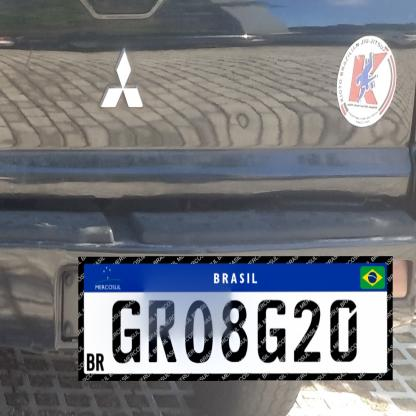PlacaM: (78, 256, 393, 381)
